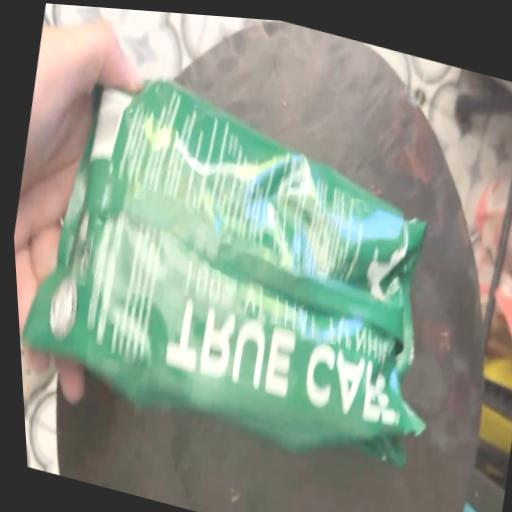cafe_xay: (23, 81, 425, 466)
